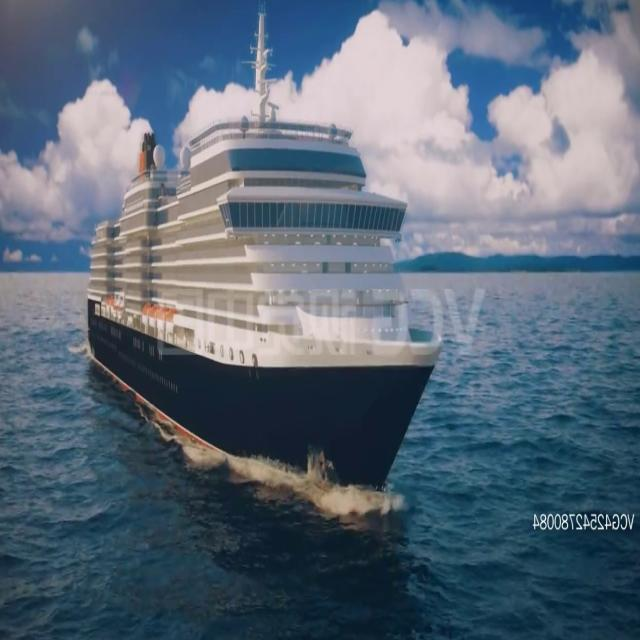passenger ship: (81, 2, 447, 500)
